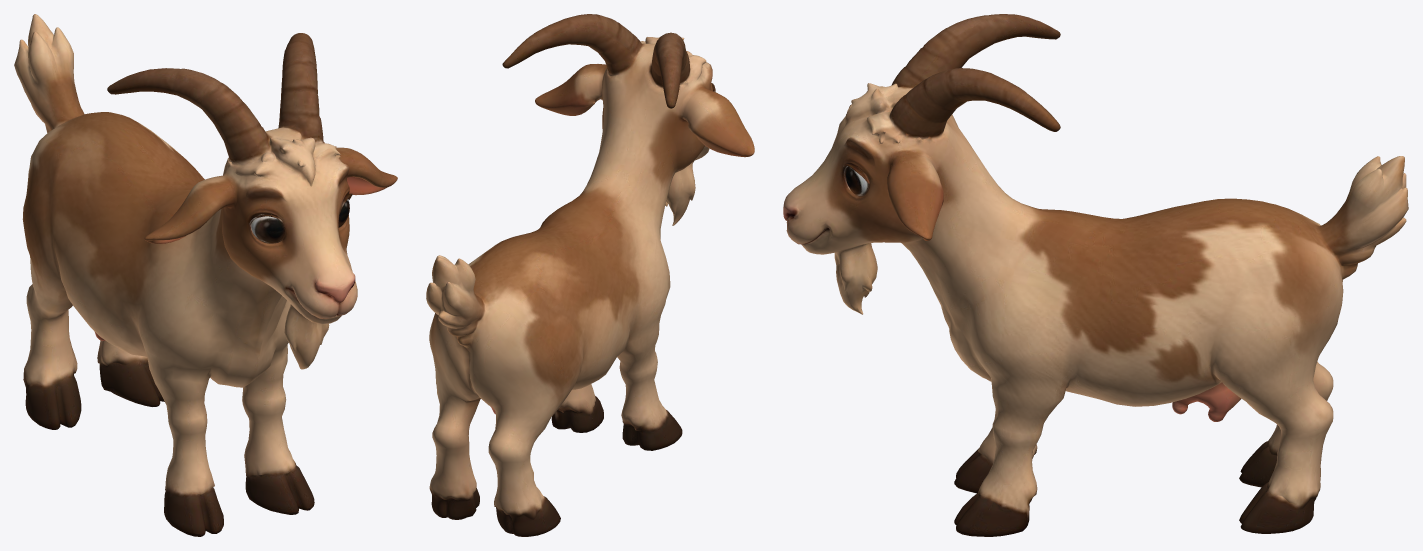
Rendered from goat.glb.
3 renders of one model, left to right at view 1: azimuth 30°, elevation 25°; view 2: azimuth 150°, elevation 25°; view 3: azimuth 270°, elevation 25°, orthographic. The views are drawn at different scales.
Parts seen in each view (by area): view 1: goat; view 2: goat; view 3: goat.
Boxes of the visible parts, x1=… form: goat: x1=14, y1=14, x2=397, y2=536; goat: x1=426, y1=14, x2=754, y2=536; goat: x1=783, y1=14, x2=1408, y2=536.
Bounding box in the file's own units: 0.4546 × 0.7935 × 0.9722.
1 material, 1 textured.
